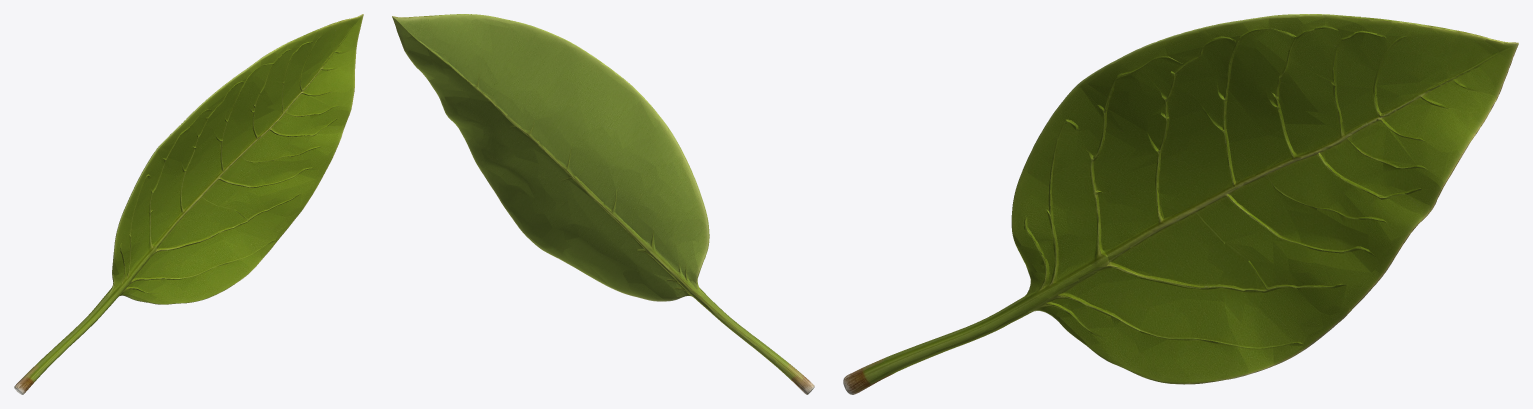
Rendered from feuille-kudzu.glb.
3 views of the same model, side by side, from view 1: azimuth 30°, elevation 25°; view 2: azimuth 150°, elevation 25°; view 3: azimuth 330°, elevation 25° (orthographic). The views are drawn at different scales.
Visible parts, largest first — view 1: mesh_node; view 2: mesh_node; view 3: mesh_node.
Part boxes in pixels (left/top/right/bottom): mesh_node: left=14, top=14, right=363, bottom=394; mesh_node: left=392, top=14, right=814, bottom=394; mesh_node: left=843, top=14, right=1518, bottom=394.
Bounding box in the file's own units: 1.9 × 1.4 × 0.2263.
1 material, 1 textured.
